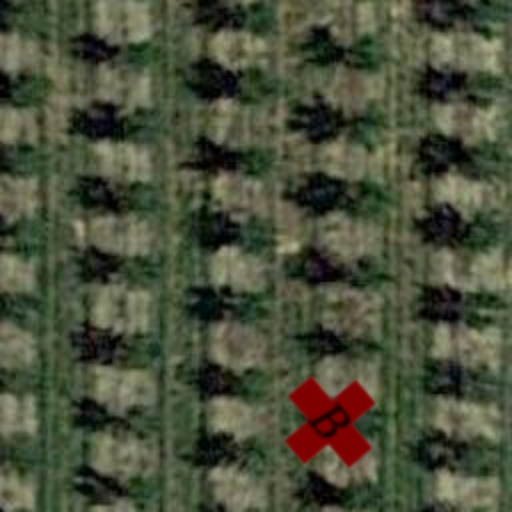cross: (262, 354, 398, 490)
